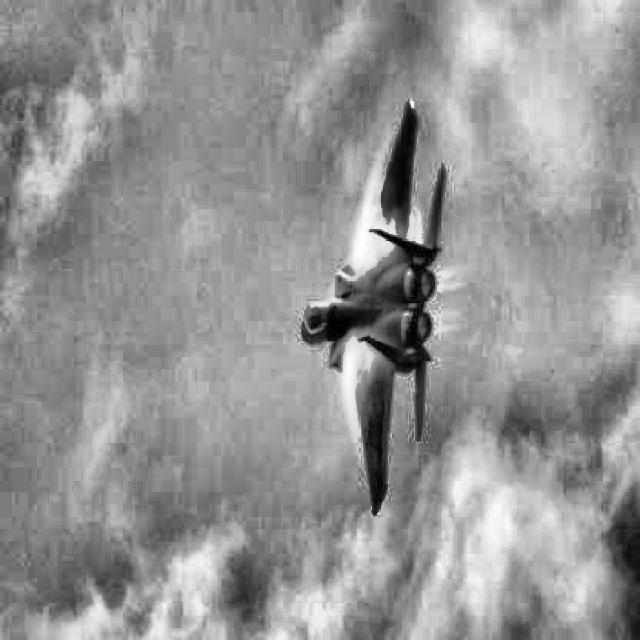F15: (300, 101, 446, 516)
